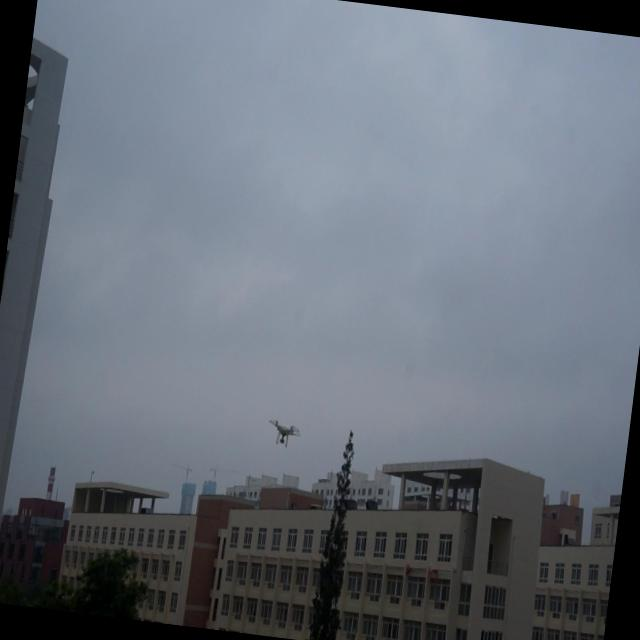drone: (261, 414, 303, 449)
